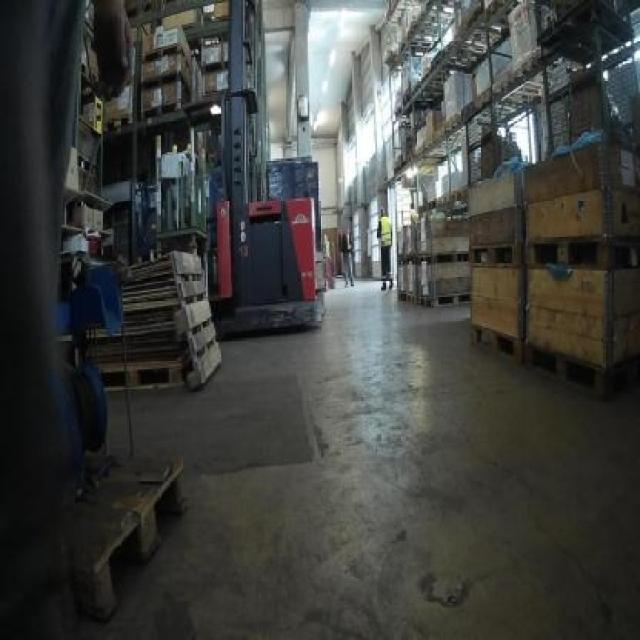pallets: (71, 455, 182, 617), (86, 249, 218, 385), (215, 197, 318, 332)
